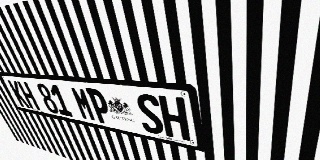1: (47, 84, 73, 117)
8: (35, 83, 60, 114)
H: (158, 95, 190, 141), (17, 81, 40, 110)
K: (7, 80, 30, 108)
M: (70, 86, 97, 122)
P: (85, 88, 114, 125)
S: (134, 93, 165, 136)
